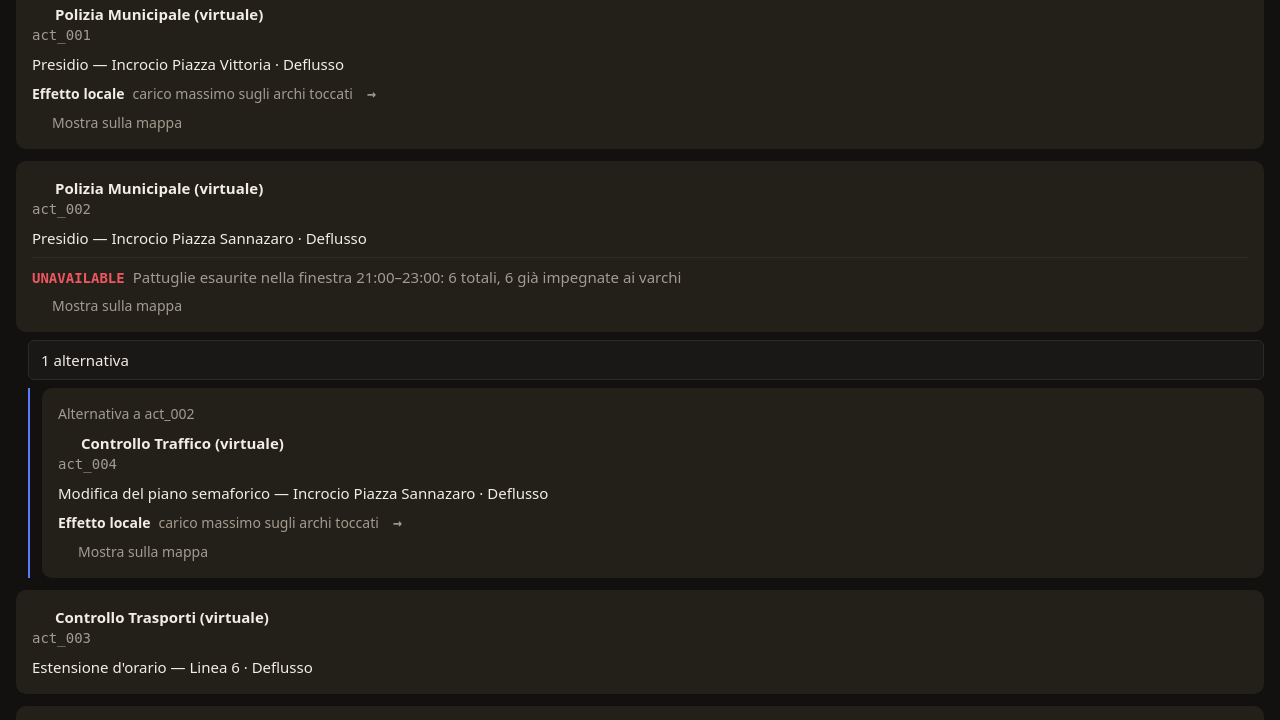
Scenario: OperationsPanel: le richieste › l'alternativa sta sotto la richiesta rifiutata, e il suo titolo la apre e la chiude
The image size is (1280, 720).
(page scrolled)
Click the button "1 alternativa" at (85, 360), box [28,340,1264,380]
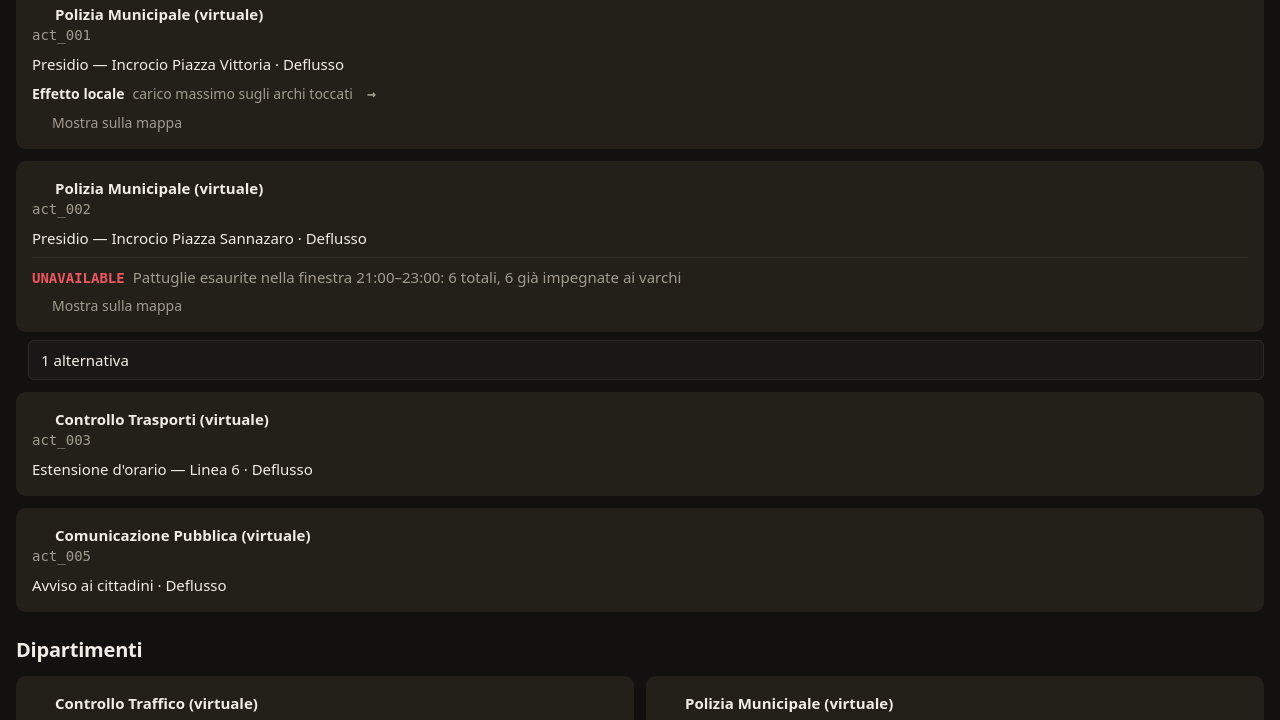
Check: the text "act_004" is gone
Click the button "1 alternativa" at (85, 360), box [28,340,1264,380]
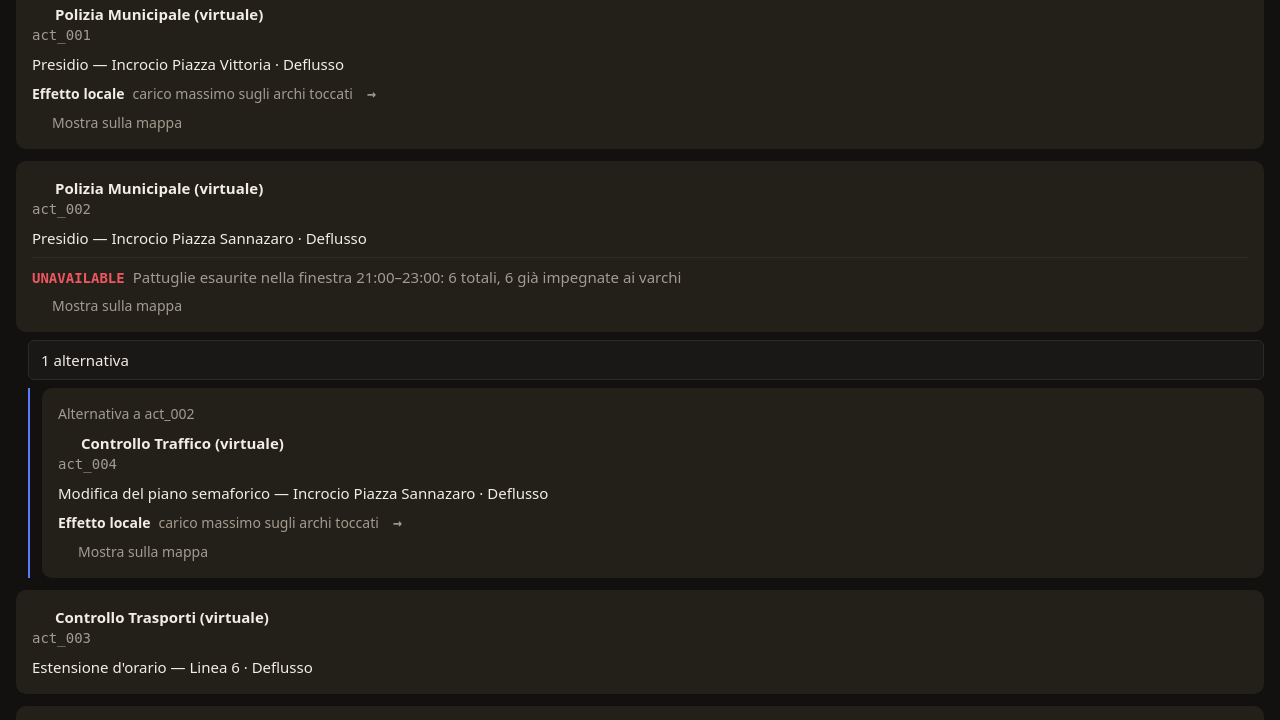
Check: the element "act_004" is shown, box [42,388,1264,578]
